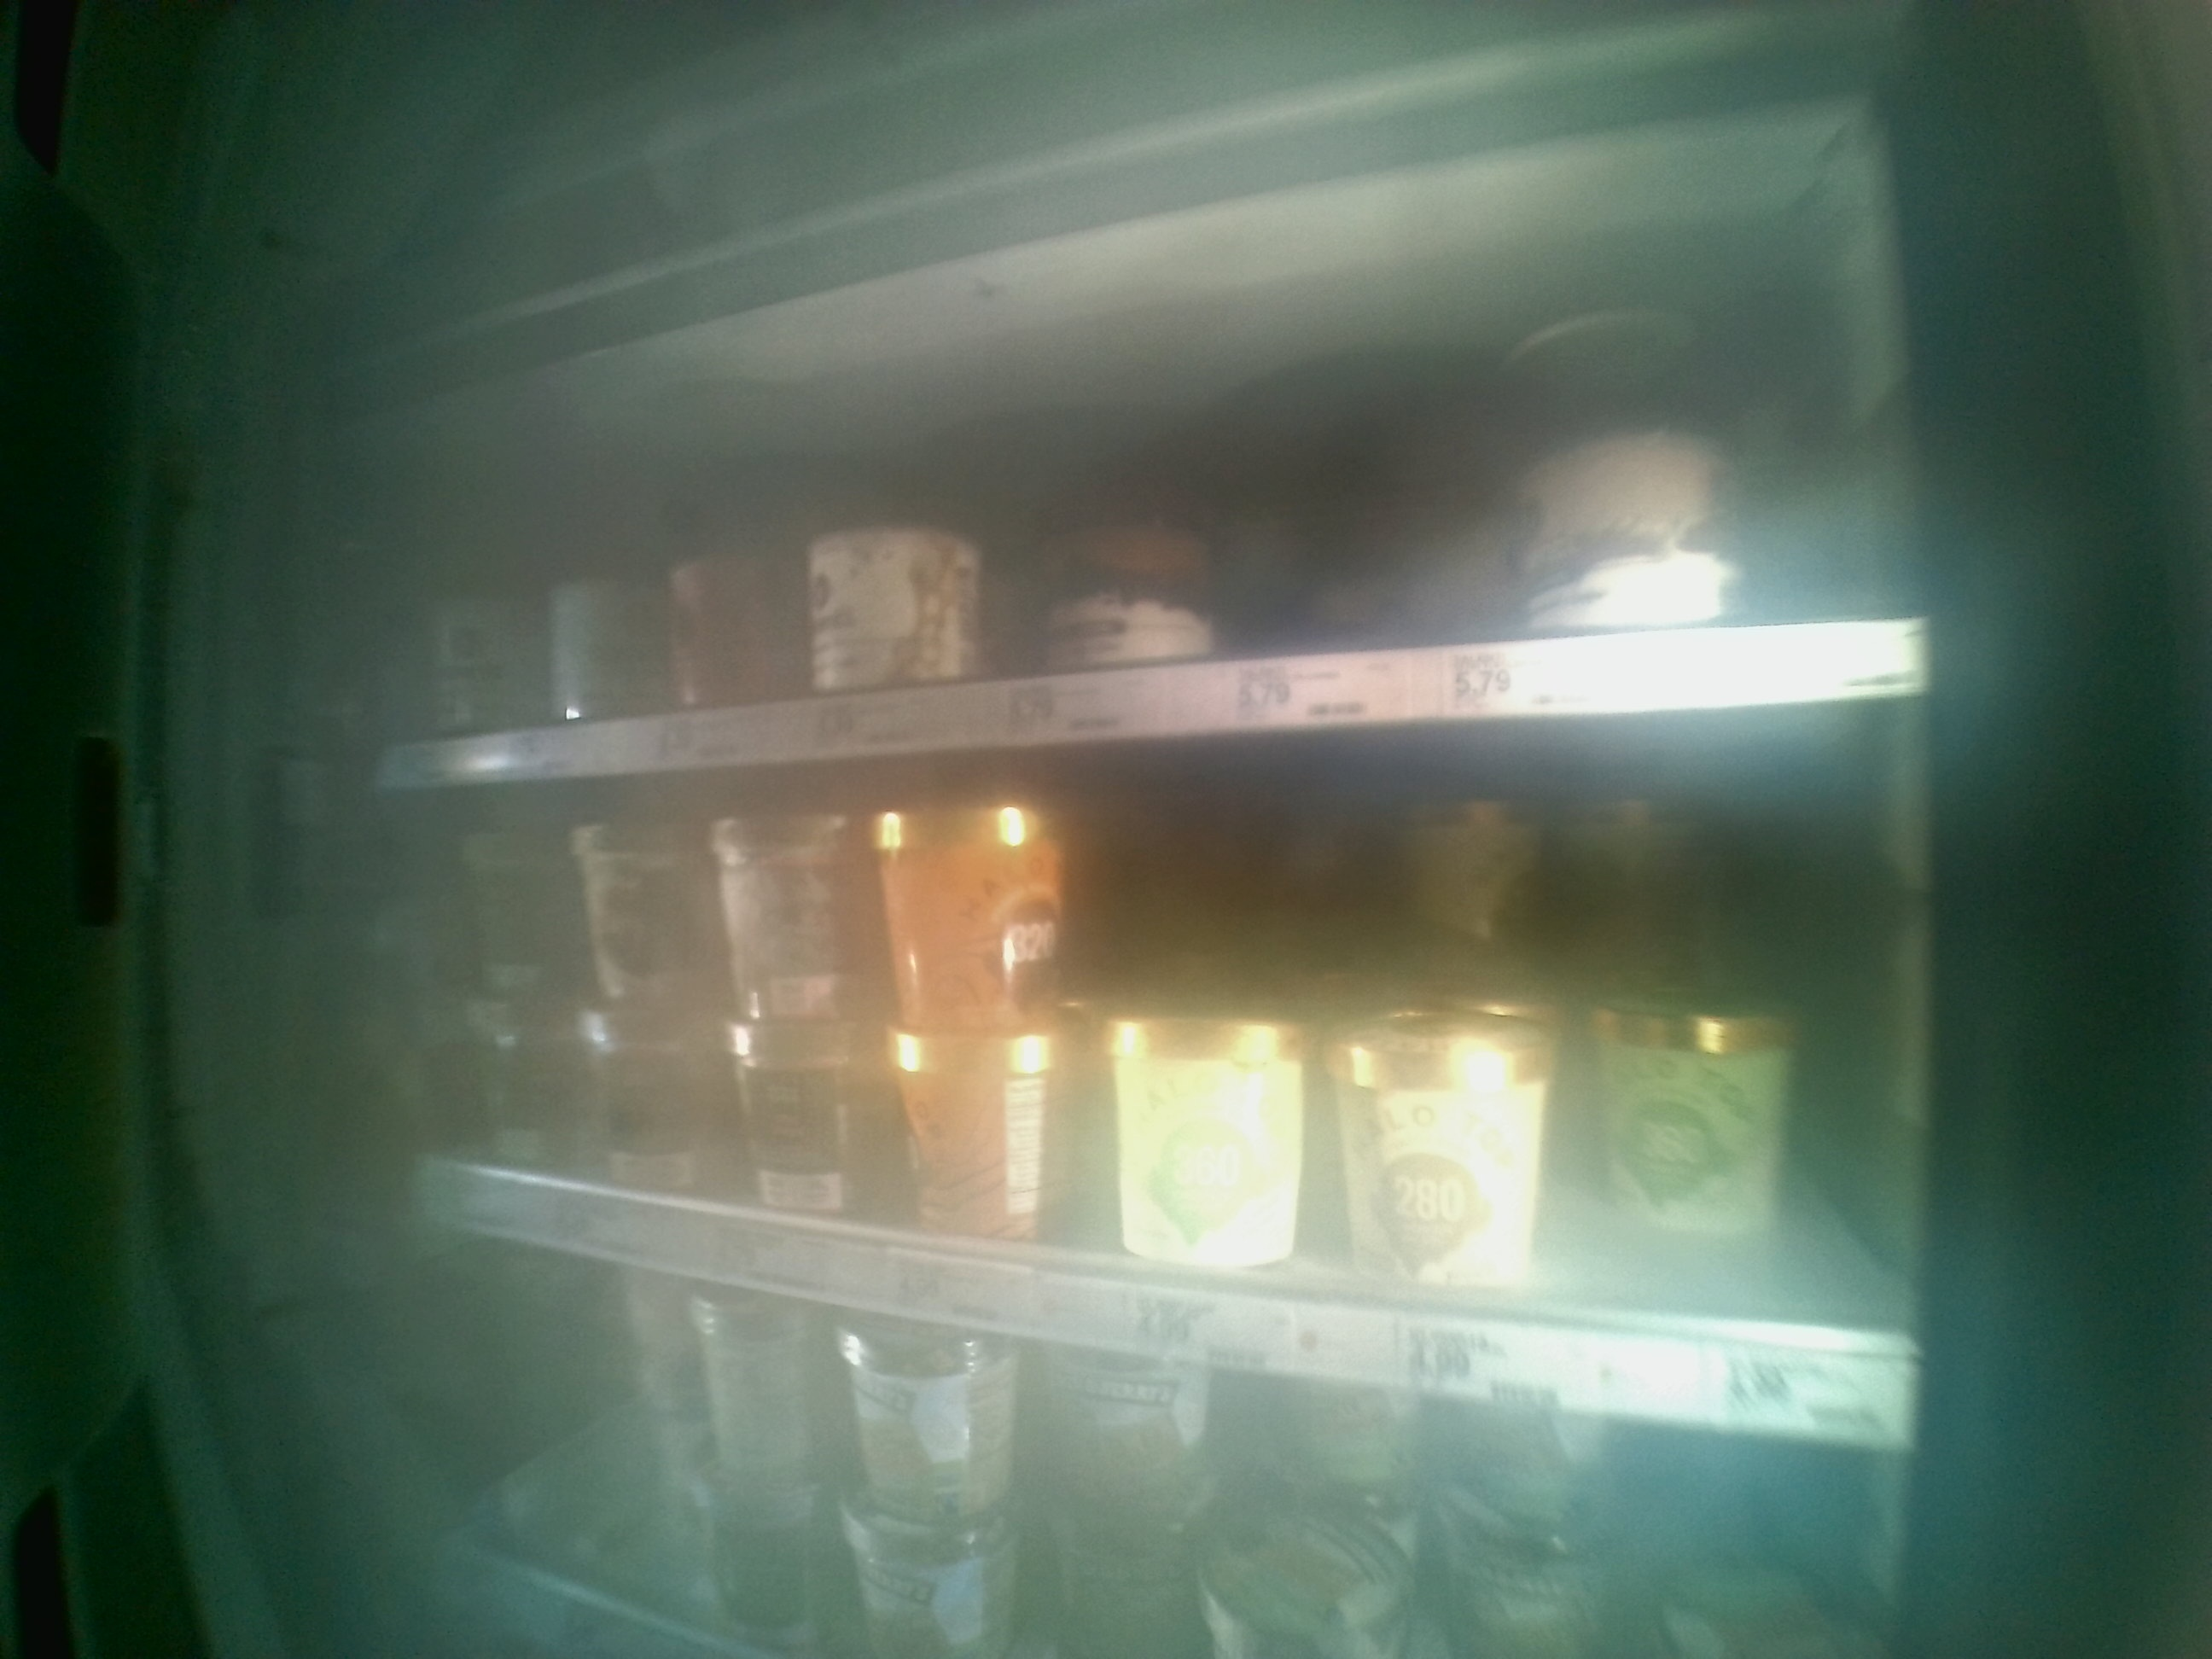shelf: (387, 699, 1935, 1474), (355, 369, 1940, 793)
